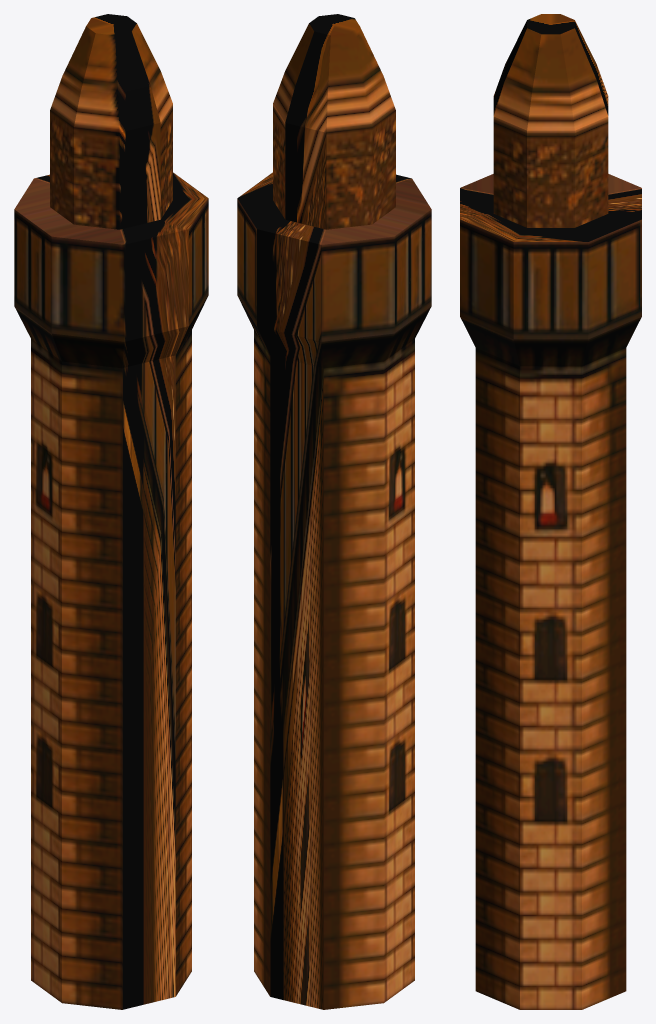
The model's file is Tower.glb.
The picture shows the model from 3 angles, left to right: view 1: azimuth 30°, elevation 25°; view 2: azimuth 150°, elevation 25°; view 3: azimuth 270°, elevation 25°; orthographic projection.
Parts seen in each view (by area): view 1: Tower; view 2: Tower; view 3: Tower.
Boxes of the visible parts, x1,y1,x2,y2 form: Tower: (14,14,208,1009); Tower: (237,14,431,1009); Tower: (460,14,641,1009).
Bounding box in the file's own units: 125 × 721 × 125.
1 material, 1 textured.
